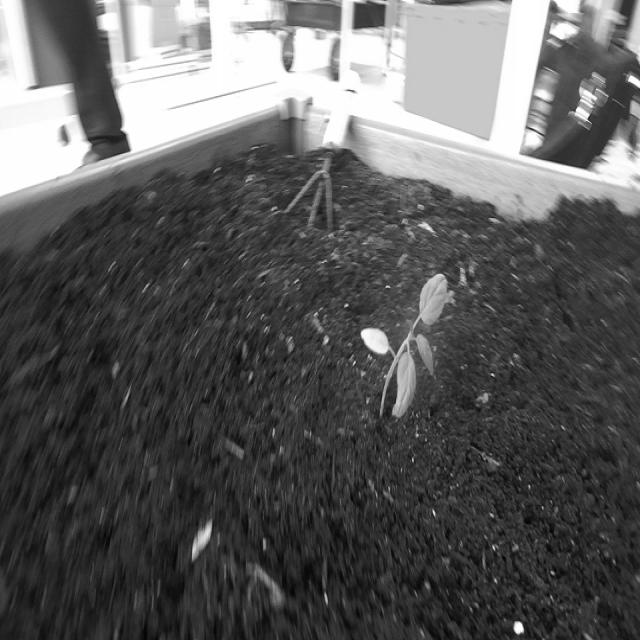Healthy: (352, 245, 461, 436)
